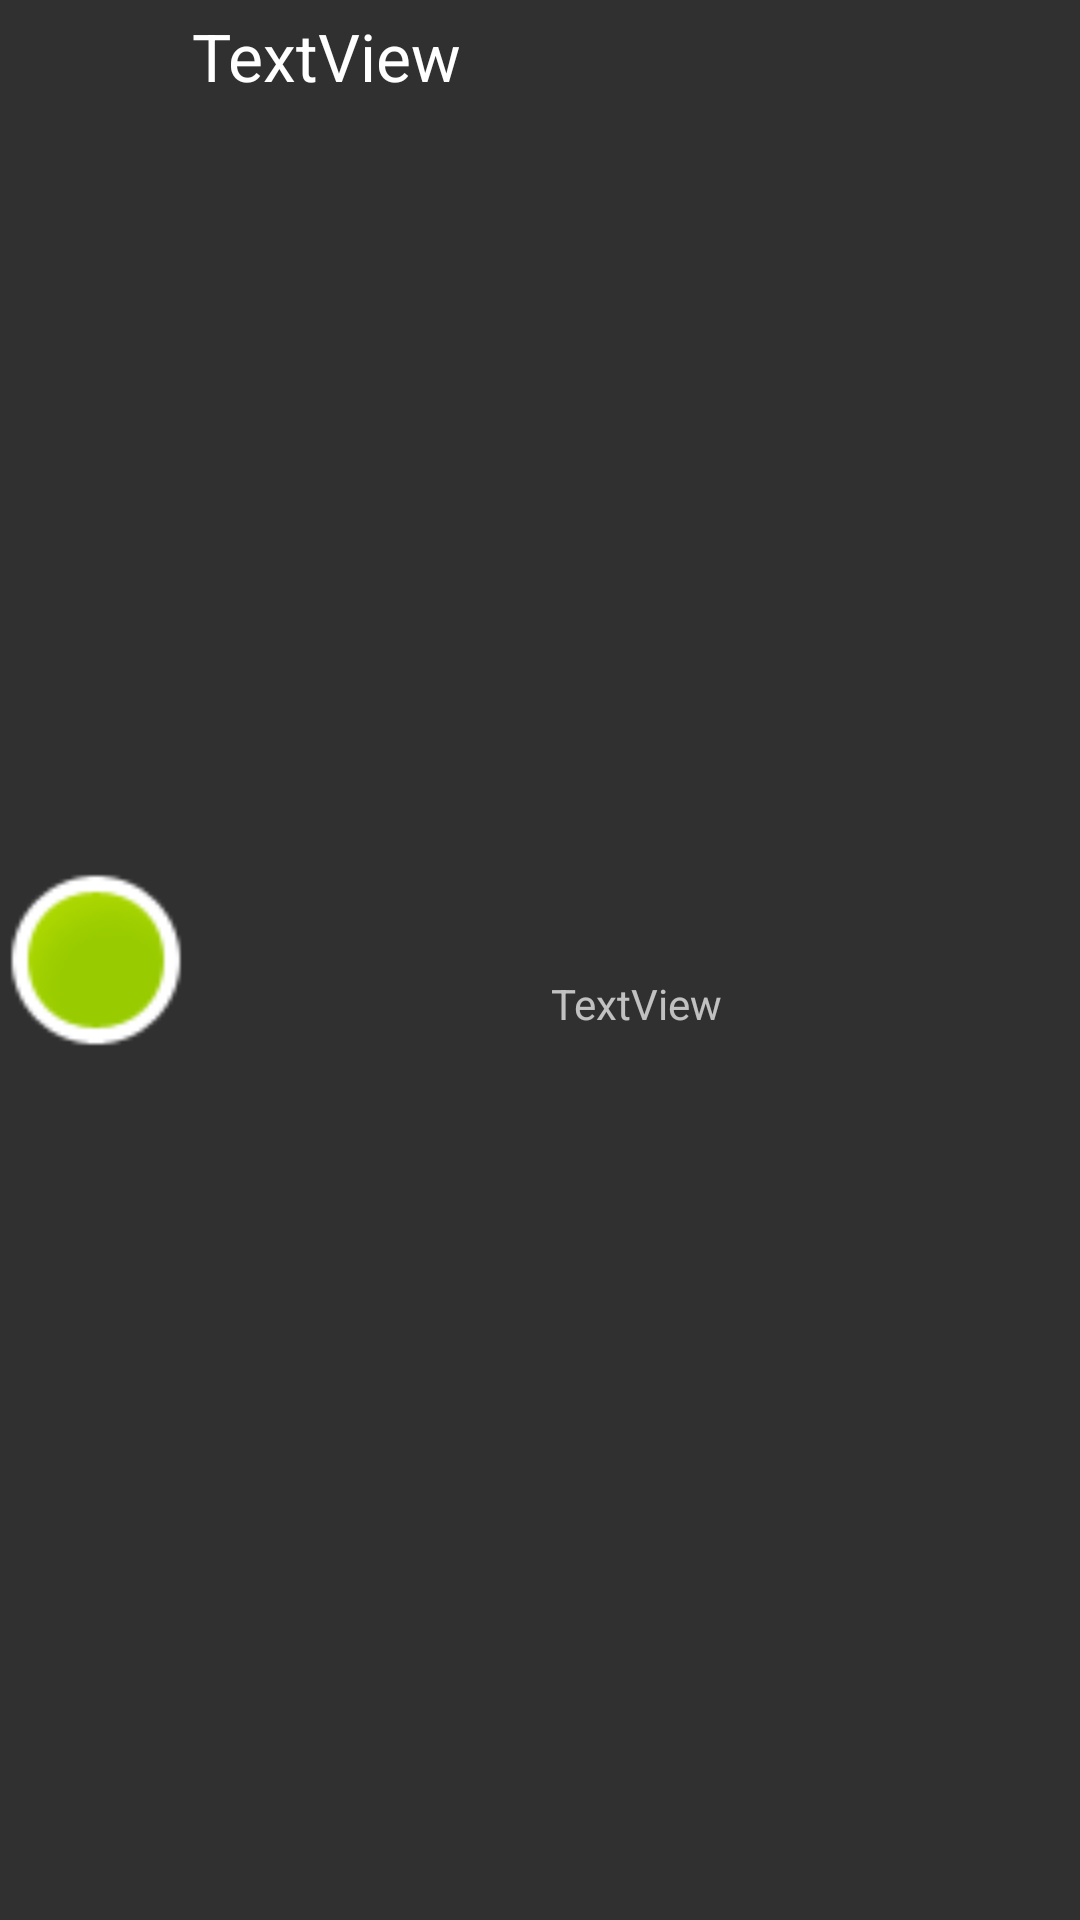

Screen size 1080 x 1920. Icon name, then its center in pixels as (x,y):
presence online: (96,960)
